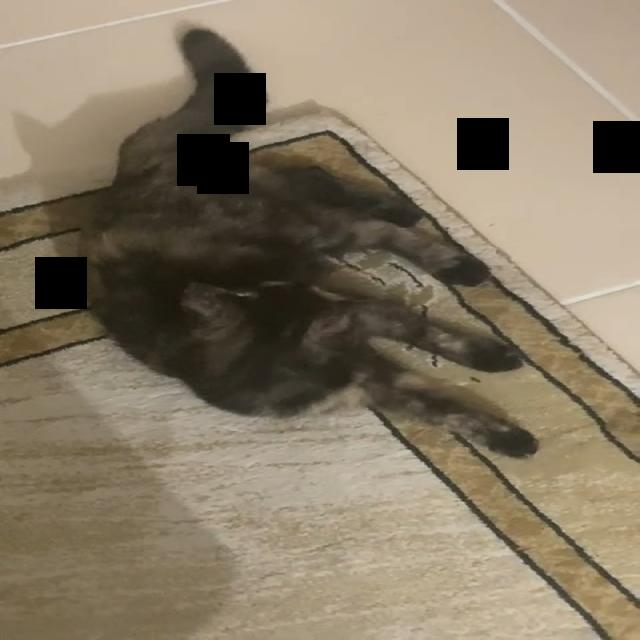authorized: (75, 18, 540, 460)
